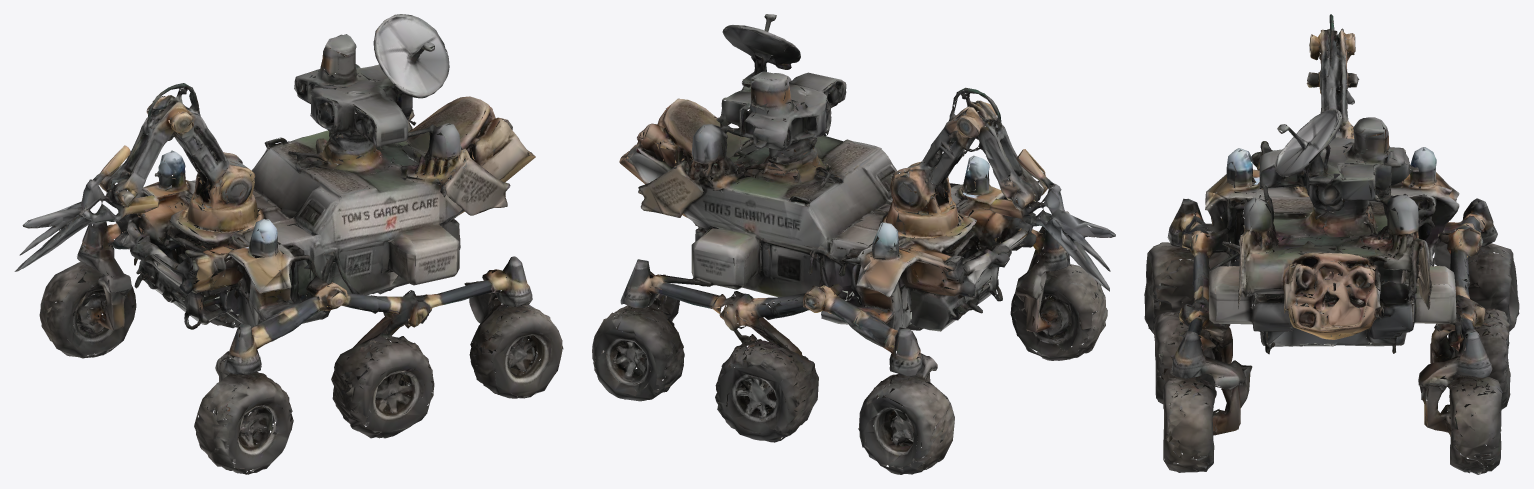
Rendered from rover_decimated.glb.
3 renders of one model, left to right at view 1: azimuth 30°, elevation 25°; view 2: azimuth 150°, elevation 25°; view 3: azimuth 270°, elevation 25°, orthographic.
Visible parts, largest first — view 1: Mesh_0; view 2: Mesh_0; view 3: Mesh_0.
Boxes of the visible parts, x1=… form: Mesh_0: x1=14, y1=14, x2=563, y2=474; Mesh_0: x1=592, y1=14, x2=1115, y2=474; Mesh_0: x1=1144, y1=14, x2=1519, y2=474.
Size of the model in its own units: 2 by 1.3 by 1.32.
1 material, 1 textured.
